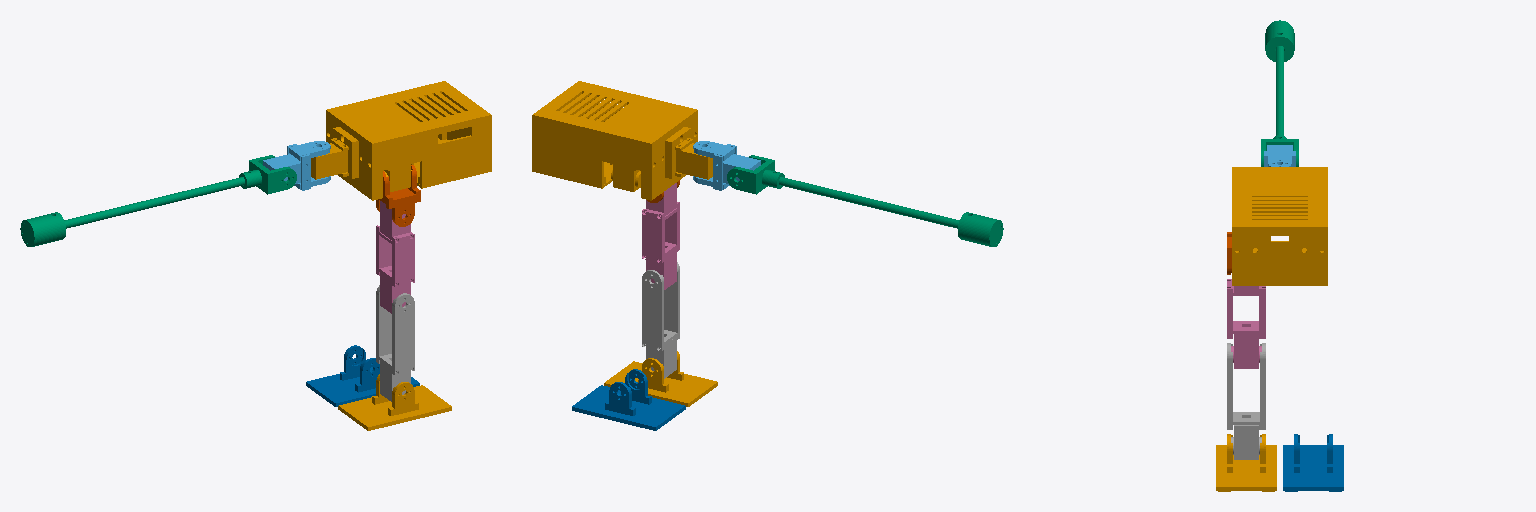
URDF robot description (custom_biped_v1):
<?xml version="1.0" ?>
<robot name="custom_biped_v1">
  <!-- generated by generator/build_urdf.py from v1/params.yaml, git 8878348-dirty; do not edit by hand -->
  <link name="base">
    <inertial>
      <origin xyz="0.0251025 7.76448e-05 0.0133132" rpy="0 0 0"/>
      <mass value="0.302065"/>
      <inertia ixx="0.000237214" ixy="-6.30066e-06" ixz="3.96637e-05" iyy="0.000622193" iyz="-7.26275e-07" izz="0.000696816"/>
    </inertial>
    <visual>
      <origin xyz="0 0 0" rpy="0 0 0"/>
      <geometry>
        <mesh filename="../meshes/base.stl" scale="0.001 0.001 0.001"/>
      </geometry>
    </visual>
    <collision>
      <origin xyz="0.0315 0 0.017" rpy="0 0 0"/>
      <geometry>
        <box size="0.127 0.086 0.058"/>
      </geometry>
    </collision>
    <collision>
      <origin xyz="-0.05275 0 0.017" rpy="0 0 0"/>
      <geometry>
        <box size="0.0415 0.036 0.031"/>
      </geometry>
    </collision>
  </link>
  <link name="left_hip">
    <inertial>
      <origin xyz="4.49157e-05 4.49157e-05 -0.017" rpy="0 0 0"/>
      <mass value="0.0192709"/>
      <inertia ixx="3.29252e-06" ixy="2.91939e-11" ixz="-1.20768e-08" iyy="3.29252e-06" iyz="1.20768e-08" izz="3.58107e-06"/>
    </inertial>
    <visual>
      <origin xyz="0 0 0" rpy="0 0 0"/>
      <geometry>
        <mesh filename="../meshes/left_hip.stl" scale="0.001 0.001 0.001"/>
      </geometry>
    </visual>
    <collision>
      <origin xyz="0 0 -0.017" rpy="0 0 0"/>
      <geometry>
        <box size="0.0345 0.0345 0.013"/>
      </geometry>
    </collision>
  </link>
  <link name="left_thigh">
    <inertial>
      <origin xyz="0 -2.41345e-05 -0.045" rpy="0 0 0"/>
      <mass value="0.0586751"/>
      <inertia ixx="7.24753e-05" ixy="-3.6457e-23" ixz="-6.1301e-22" iyy="6.9603e-05" iyz="1.56249e-20" izz="6.61963e-06"/>
    </inertial>
    <visual>
      <origin xyz="0 0 0" rpy="0 0 0"/>
      <geometry>
        <mesh filename="../meshes/left_thigh.stl" scale="0.001 0.001 0.001"/>
      </geometry>
    </visual>
    <collision>
      <origin xyz="0 0 -0.0425" rpy="0 0 0"/>
      <geometry>
        <box size="0.022 0.0345 0.085"/>
      </geometry>
    </collision>
  </link>
  <link name="left_shin">
    <inertial>
      <origin xyz="0 1.85067e-06 -0.059341" rpy="0 0 0"/>
      <mass value="0.0418623"/>
      <inertia ixx="3.8498e-05" ixy="1.30479e-22" ixz="3.57084e-23" iyy="3.5162e-05" iyz="-6.45354e-08" izz="5.97676e-06"/>
    </inertial>
    <visual>
      <origin xyz="0 0 0" rpy="0 0 0"/>
      <geometry>
        <mesh filename="../meshes/left_shin.stl" scale="0.001 0.001 0.001"/>
      </geometry>
    </visual>
    <collision>
      <origin xyz="0 0 -0.0425" rpy="0 0 0"/>
      <geometry>
        <box size="0.022 0.0345 0.085"/>
      </geometry>
    </collision>
  </link>
  <link name="left_foot">
    <inertial>
      <origin xyz="0 2.40526e-05 -0.0193575" rpy="0 0 0"/>
      <mass value="0.0295254"/>
      <inertia ixx="7.98537e-06" ixy="-3.31094e-22" ixz="-3.05482e-22" iyy="1.65003e-05" iyz="-1.36217e-08" izz="2.21216e-05"/>
    </inertial>
    <visual>
      <origin xyz="0 0 0" rpy="0 0 0"/>
      <geometry>
        <mesh filename="../meshes/left_foot.stl" scale="0.001 0.001 0.001"/>
      </geometry>
    </visual>
    <collision>
      <origin xyz="0 0 -0.0225" rpy="0 0 0"/>
      <geometry>
        <box size="0.09 0.055 0.005"/>
      </geometry>
    </collision>
  </link>
  <link name="right_hip">
    <inertial>
      <origin xyz="4.49157e-05 -4.49157e-05 -0.017" rpy="0 0 0"/>
      <mass value="0.0192709"/>
      <inertia ixx="3.29252e-06" ixy="-2.91939e-11" ixz="-1.20768e-08" iyy="3.29252e-06" iyz="-1.20768e-08" izz="3.58107e-06"/>
    </inertial>
    <visual>
      <origin xyz="0 0 0" rpy="0 0 0"/>
      <geometry>
        <mesh filename="../meshes/right_hip.stl" scale="0.001 0.001 0.001"/>
      </geometry>
    </visual>
    <collision>
      <origin xyz="0 0 -0.017" rpy="0 0 0"/>
      <geometry>
        <box size="0.0345 0.0345 0.013"/>
      </geometry>
    </collision>
  </link>
  <link name="right_thigh">
    <inertial>
      <origin xyz="0 2.41345e-05 -0.045" rpy="0 0 0"/>
      <mass value="0.0586751"/>
      <inertia ixx="7.24753e-05" ixy="4.13005e-23" ixz="-2.75748e-22" iyy="6.9603e-05" iyz="-2.64052e-20" izz="6.61963e-06"/>
    </inertial>
    <visual>
      <origin xyz="0 0 0" rpy="0 0 0"/>
      <geometry>
        <mesh filename="../meshes/right_thigh.stl" scale="0.001 0.001 0.001"/>
      </geometry>
    </visual>
    <collision>
      <origin xyz="0 0 -0.0425" rpy="0 0 0"/>
      <geometry>
        <box size="0.022 0.0345 0.085"/>
      </geometry>
    </collision>
  </link>
  <link name="right_shin">
    <inertial>
      <origin xyz="0 -1.85067e-06 -0.059341" rpy="0 0 0"/>
      <mass value="0.0418623"/>
      <inertia ixx="3.8498e-05" ixy="-2.80004e-22" ixz="9.22297e-23" iyy="3.5162e-05" iyz="6.45354e-08" izz="5.97676e-06"/>
    </inertial>
    <visual>
      <origin xyz="0 0 0" rpy="0 0 0"/>
      <geometry>
        <mesh filename="../meshes/right_shin.stl" scale="0.001 0.001 0.001"/>
      </geometry>
    </visual>
    <collision>
      <origin xyz="0 0 -0.0425" rpy="0 0 0"/>
      <geometry>
        <box size="0.022 0.0345 0.085"/>
      </geometry>
    </collision>
  </link>
  <link name="right_foot">
    <inertial>
      <origin xyz="0 -2.40526e-05 -0.0193575" rpy="0 0 0"/>
      <mass value="0.0295254"/>
      <inertia ixx="7.98537e-06" ixy="3.15815e-22" ixz="-3.05482e-22" iyy="1.65003e-05" iyz="1.36217e-08" izz="2.21216e-05"/>
    </inertial>
    <visual>
      <origin xyz="0 0 0" rpy="0 0 0"/>
      <geometry>
        <mesh filename="../meshes/right_foot.stl" scale="0.001 0.001 0.001"/>
      </geometry>
    </visual>
    <collision>
      <origin xyz="0 0 -0.0225" rpy="0 0 0"/>
      <geometry>
        <box size="0.09 0.055 0.005"/>
      </geometry>
    </collision>
  </link>
  <link name="tail_yaw_link">
    <inertial>
      <origin xyz="-0.0282483 -2.08797e-05 -2.6578e-05" rpy="0 0 0"/>
      <mass value="0.0339108"/>
      <inertia ixx="4.02165e-06" ixy="-1.11529e-08" ixz="2.29712e-08" iyy="9.33824e-06" iyz="1.88185e-11" izz="8.65092e-06"/>
    </inertial>
    <visual>
      <origin xyz="0 0 0" rpy="0 0 0"/>
      <geometry>
        <mesh filename="../meshes/tail_yaw_link.stl" scale="0.001 0.001 0.001"/>
      </geometry>
    </visual>
    <collision>
      <origin xyz="-0.00775 0 0" rpy="0 0 0"/>
      <geometry>
        <box size="0.0365 0.028 0.0345"/>
      </geometry>
    </collision>
  </link>
  <link name="tail_pitch_link">
    <inertial>
      <origin xyz="-0.187274 1.32981e-05 -2.43176e-05" rpy="0 0 0"/>
      <mass value="0.0613126"/>
      <inertia ixx="4.46073e-06" ixy="-1.5115e-07" ixz="-3.37314e-08" iyy="0.000629861" iyz="-1.72599e-11" izz="0.000630878"/>
    </inertial>
    <visual>
      <origin xyz="0 0 0" rpy="0 0 0"/>
      <geometry>
        <mesh filename="../meshes/tail_pitch_link.stl" scale="0.001 0.001 0.001"/>
      </geometry>
    </visual>
    <collision>
      <origin xyz="-0.01175 0 0" rpy="0 0 0"/>
      <geometry>
        <box size="0.0445 0.0345 0.022"/>
      </geometry>
    </collision>
    <collision>
      <origin xyz="-0.1335 0 0" rpy="0 1.570796 0"/>
      <geometry>
        <cylinder radius="0.004" length="0.199"/>
      </geometry>
    </collision>
    <collision>
      <origin xyz="-0.25 0 0" rpy="0 1.570796 0"/>
      <geometry>
        <cylinder radius="0.013" length="0.034"/>
      </geometry>
    </collision>
  </link>
  <joint name="left_hip_roll" type="revolute">
    <origin xyz="0 0.03 0" rpy="0 0 0"/>
    <parent link="base"/>
    <child link="left_hip"/>
    <axis xyz="1 0 0"/>
    <limit lower="-0.436332" upper="0.436332" effort="1.18" velocity="9.6"/>
    <dynamics damping="0" friction="0.016"/>
  </joint>
  <joint name="left_hip_pitch" type="revolute">
    <origin xyz="0 0 -0.034" rpy="0 0 0"/>
    <parent link="left_hip"/>
    <child link="left_thigh"/>
    <axis xyz="0 1 0"/>
    <limit lower="-0.959931" upper="0.785398" effort="1.18" velocity="9.6"/>
    <dynamics damping="0" friction="0.016"/>
  </joint>
  <joint name="left_knee" type="revolute">
    <origin xyz="0 0 -0.09" rpy="0 0 0"/>
    <parent link="left_thigh"/>
    <child link="left_shin"/>
    <axis xyz="0 1 0"/>
    <limit lower="0.000000" upper="2.094395" effort="1.18" velocity="9.6"/>
    <dynamics damping="0" friction="0.016"/>
  </joint>
  <joint name="left_ankle_pitch" type="revolute">
    <origin xyz="0 0 -0.09" rpy="0 0 0"/>
    <parent link="left_shin"/>
    <child link="left_foot"/>
    <axis xyz="0 1 0"/>
    <limit lower="-1.047198" upper="1.047198" effort="1.18" velocity="9.6"/>
    <dynamics damping="0" friction="0.016"/>
  </joint>
  <joint name="right_hip_roll" type="revolute">
    <origin xyz="0 -0.03 0" rpy="0 0 0"/>
    <parent link="base"/>
    <child link="right_hip"/>
    <axis xyz="1 0 0"/>
    <limit lower="-0.436332" upper="0.436332" effort="1.18" velocity="9.6"/>
    <dynamics damping="0" friction="0.016"/>
  </joint>
  <joint name="right_hip_pitch" type="revolute">
    <origin xyz="0 0 -0.034" rpy="0 0 0"/>
    <parent link="right_hip"/>
    <child link="right_thigh"/>
    <axis xyz="0 1 0"/>
    <limit lower="-0.959931" upper="0.785398" effort="1.18" velocity="9.6"/>
    <dynamics damping="0" friction="0.016"/>
  </joint>
  <joint name="right_knee" type="revolute">
    <origin xyz="0 0 -0.09" rpy="0 0 0"/>
    <parent link="right_thigh"/>
    <child link="right_shin"/>
    <axis xyz="0 1 0"/>
    <limit lower="0.000000" upper="2.094395" effort="1.18" velocity="9.6"/>
    <dynamics damping="0" friction="0.016"/>
  </joint>
  <joint name="right_ankle_pitch" type="revolute">
    <origin xyz="0 0 -0.09" rpy="0 0 0"/>
    <parent link="right_shin"/>
    <child link="right_foot"/>
    <axis xyz="0 1 0"/>
    <limit lower="-1.047198" upper="1.047198" effort="1.18" velocity="9.6"/>
    <dynamics damping="0" friction="0.016"/>
  </joint>
  <joint name="tail_yaw" type="revolute">
    <origin xyz="-0.064 0 0.017" rpy="0 0 0"/>
    <parent link="base"/>
    <child link="tail_yaw_link"/>
    <axis xyz="0 0 1"/>
    <limit lower="-1.047198" upper="1.047198" effort="1.18" velocity="9.6"/>
    <dynamics damping="0" friction="0.016"/>
  </joint>
  <joint name="tail_pitch" type="revolute">
    <origin xyz="-0.044 0 0" rpy="0 0 0"/>
    <parent link="tail_yaw_link"/>
    <child link="tail_pitch_link"/>
    <axis xyz="0 1 0"/>
    <limit lower="-0.785398" upper="1.047198" effort="1.18" velocity="9.6"/>
    <dynamics damping="0" friction="0.016"/>
  </joint>
</robot>

--- What the picture shows (computed from the rendered views, not written in the file) ---
The picture shows the robot from 3 angles, left to right: view 1: azimuth 30°, elevation 25°; view 2: azimuth 150°, elevation 25°; view 3: azimuth 270°, elevation 25°; orthographic projection.
Model custom_biped_v1 with 11 links and 10 joints (10 revolute), rooted at base, posed all joints at 0.
Visible links, largest first — view 1: base, tail_pitch_link, right_shin, right_foot, right_thigh, left_foot, tail_yaw_link, right_hip; view 2: base, tail_pitch_link, left_foot, right_shin, right_thigh, right_foot, tail_yaw_link; view 3: base, left_foot, right_foot, right_shin, right_thigh, tail_pitch_link, tail_yaw_link.
Link boxes in pixels (x1,y1,x2,y2): base: (311, 81, 491, 200); tail_pitch_link: (20, 155, 296, 246); right_shin: (376, 285, 414, 401); right_foot: (338, 374, 451, 430); right_thigh: (376, 201, 414, 313); left_foot: (306, 345, 419, 406); tail_yaw_link: (263, 141, 330, 190); right_hip: (376, 165, 420, 226); base: (532, 81, 712, 200); tail_pitch_link: (727, 155, 1003, 246); left_foot: (572, 369, 685, 430); right_shin: (642, 262, 679, 378); right_thigh: (642, 183, 679, 289); right_foot: (604, 351, 717, 406); tail_yaw_link: (693, 141, 760, 190); base: (1232, 167, 1327, 285); left_foot: (1283, 434, 1343, 491); right_foot: (1216, 434, 1276, 491); right_shin: (1227, 343, 1265, 459); right_thigh: (1227, 279, 1265, 368); tail_pitch_link: (1261, 20, 1298, 166); tail_yaw_link: (1264, 145, 1295, 166).
Bounding box of the posed robot: 0.47 × 0.115 × 0.285 m (x, y, z).
8 mesh visuals loaded from 11 distinct referenced files (8 binary STL); not drawn: 3 (reference not matched to a file when rendering).
